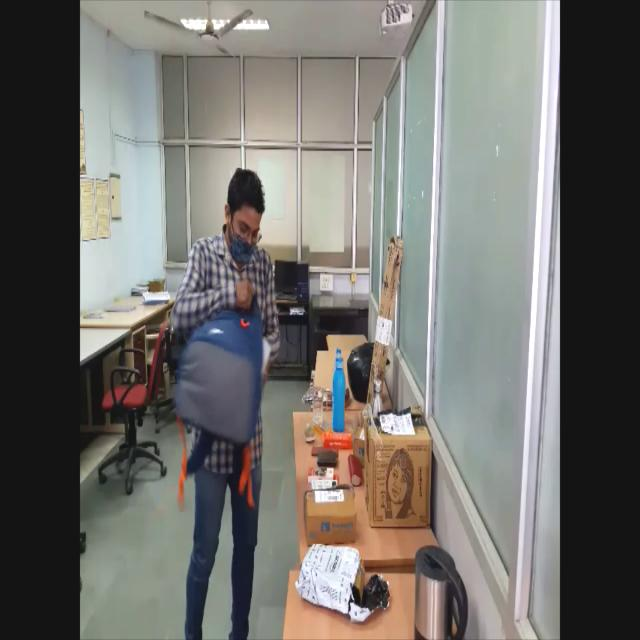shoplifting: (168, 166, 286, 640)
